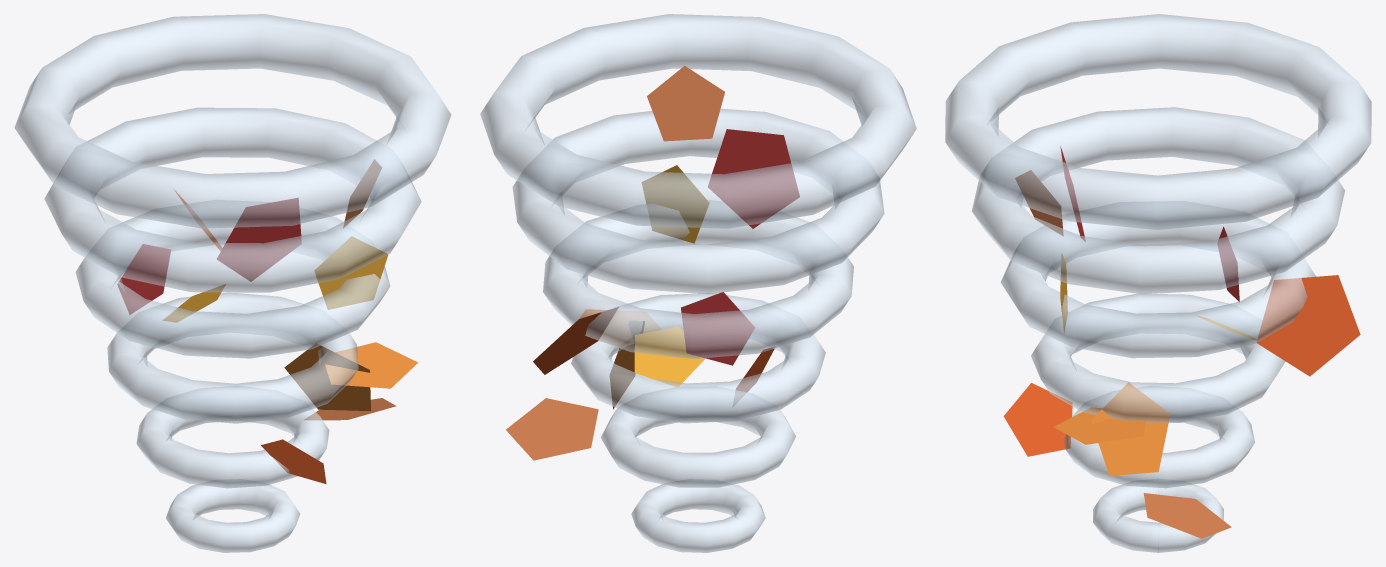
Rendered from whirl.glb.
3 renders of one model, left to right at view 1: azimuth 30°, elevation 25°; view 2: azimuth 150°, elevation 25°; view 3: azimuth 270°, elevation 25°, orthographic.
Parts seen in each view (by area): view 1: spin; view 2: spin; view 3: spin.
Part boxes in pixels (left/top/right/bottom): spin: left=14, top=14, right=451, bottom=552; spin: left=480, top=14, right=916, bottom=552; spin: left=945, top=14, right=1371, bottom=552.
Bounding box in the file's own units: 1.01 × 1.08 × 0.9818.
